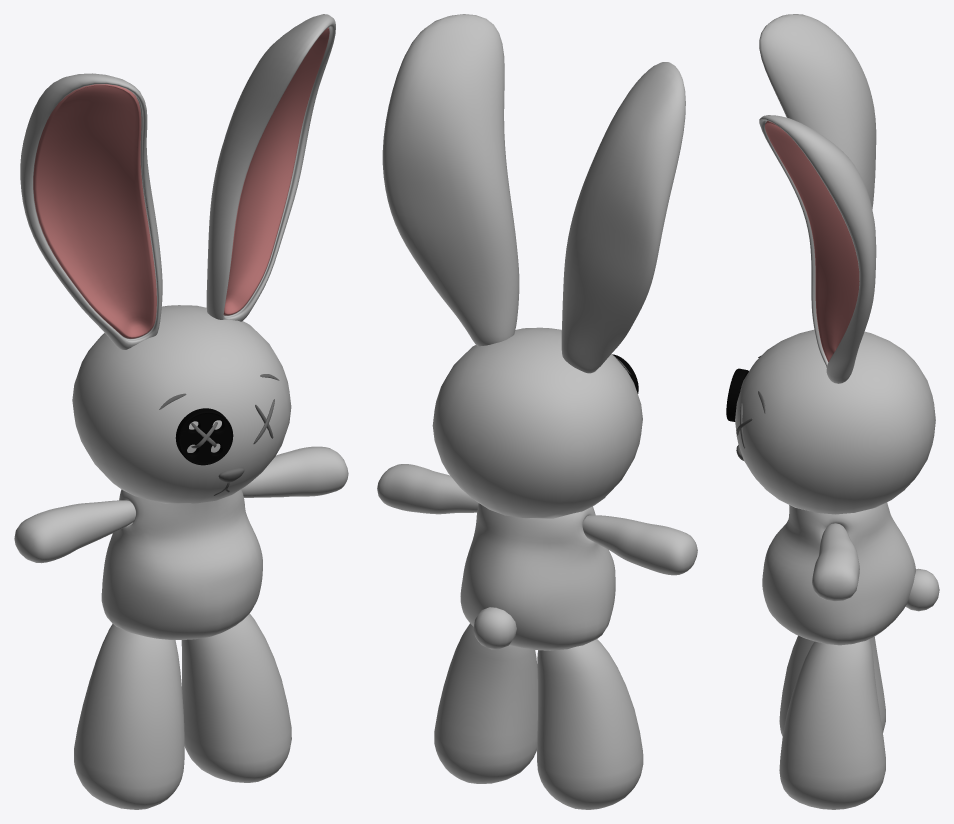
Rendered from rabbit_plush_button_eye.glb.
3 renders of one model, left to right at view 1: azimuth 30°, elevation 25°; view 2: azimuth 150°, elevation 25°; view 3: azimuth 270°, elevation 25°, orthographic. The views are drawn at different scales.
Parts seen in each view (by area): view 1: Object_4, Object_5, Object_2, Object_3; view 2: Object_4; view 3: Object_4, Object_5, Object_2.
Part boxes in pixels (x1=…): Object_4: x1=14, y1=14, x2=348, y2=809; Object_5: x1=33, y1=27, x2=329, y2=338; Object_2: x1=175, y1=408, x2=233, y2=465; Object_3: x1=159, y1=374, x2=279, y2=495; Object_4: x1=377, y1=14, x2=697, y2=809; Object_4: x1=735, y1=14, x2=939, y2=809; Object_5: x1=765, y1=121, x2=859, y2=362; Object_2: x1=726, y1=368, x2=748, y2=421.
Size of the model in its own units: 0.2442 by 0.55 by 0.1496.
